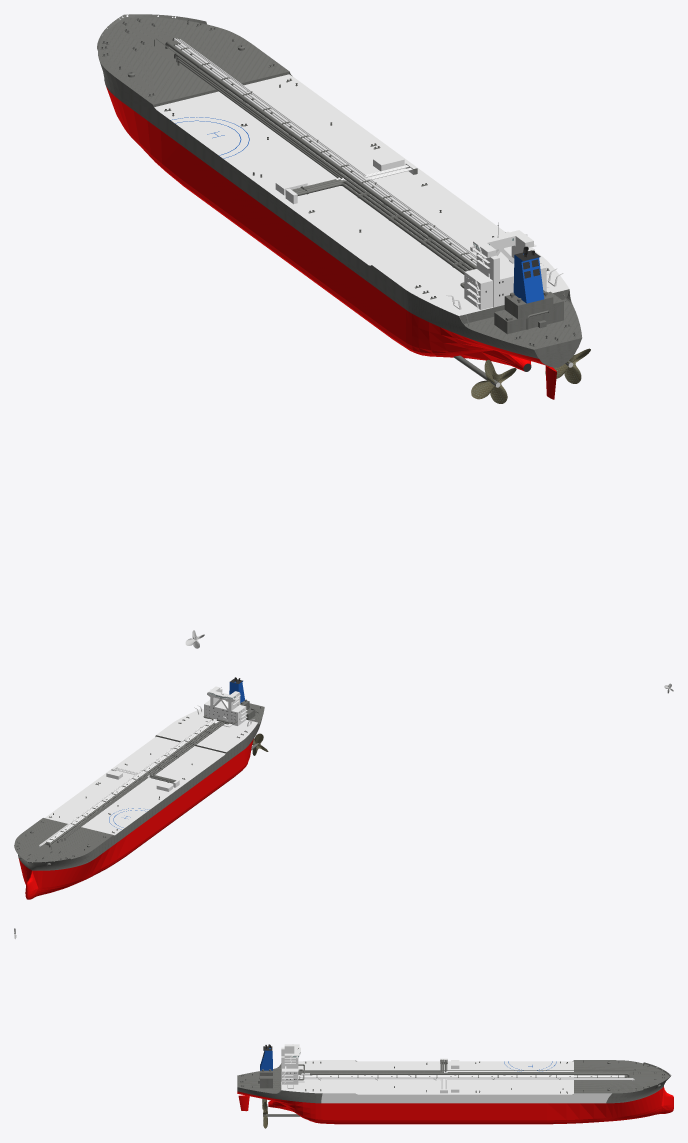
The model's file is Oil-Tanker.glb.
3 renders of one model, top to bottom at view 1: azimuth 30°, elevation 25°; view 2: azimuth 150°, elevation 25°; view 3: azimuth 270°, elevation 25°, orthographic. The views are drawn at different scales.
Visible parts, largest first — view 1: _G-Object (Loose Mesh); view 2: _G-Object (Loose Mesh); view 3: _G-Object (Loose Mesh).
Part boxes in pixels (<box>): _G-Object (Loose Mesh): <box>97,14,590,648</box>; _G-Object (Loose Mesh): <box>14,677,673,899</box>; _G-Object (Loose Mesh): <box>14,928,673,1128</box>.
Size of the model in its own units: 331 by 71.88 by 570.
8 materials, 2 textured.
